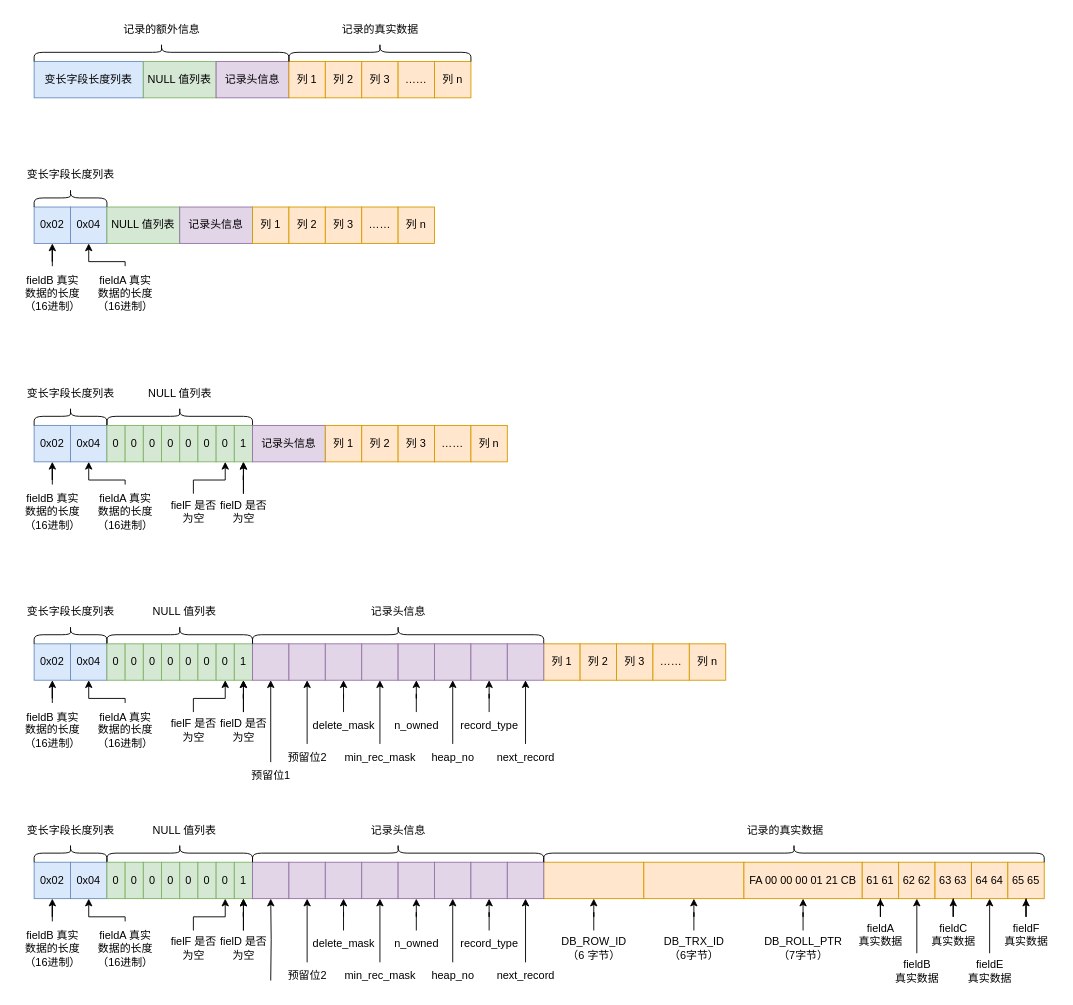
Some shapes in this 1073 by 1005 pixel diagram are drawn without their labels. Here are the shapes that lost their labels. From the top down, the box of each, then its label:
(543, 861, 644, 899): 00 00 00 00 07 6B
(643, 861, 744, 899): 00 00 00 00 69 AB
